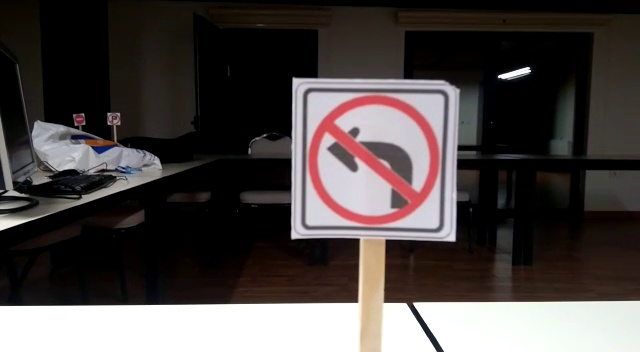sola_donulmez: (291, 80, 453, 238)
